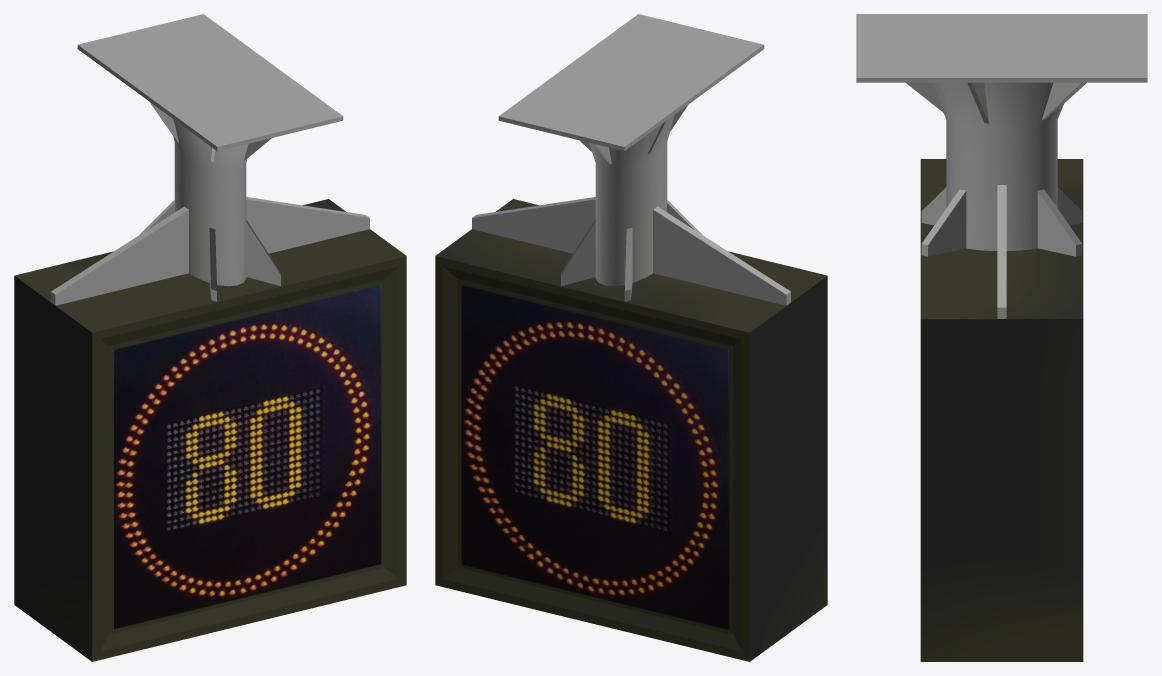
File: speedLimit.obj
3 views of the same model, side by side, from view 1: azimuth 30°, elevation 25°; view 2: azimuth 150°, elevation 25°; view 3: azimuth 270°, elevation 25° (orthographic). The views are drawn at different scales.
Visible parts, largest first — view 1: KBXSBZ2; view 2: KBXSBZ2; view 3: KBXSBZ2.
Part boxes in pixels (x1,y1,x2,y2): KBXSBZ2: (14,14,406,661); KBXSBZ2: (435,14,827,661); KBXSBZ2: (856,14,1147,661).
Size of the model in its own units: 780 by 1219 by 600.
